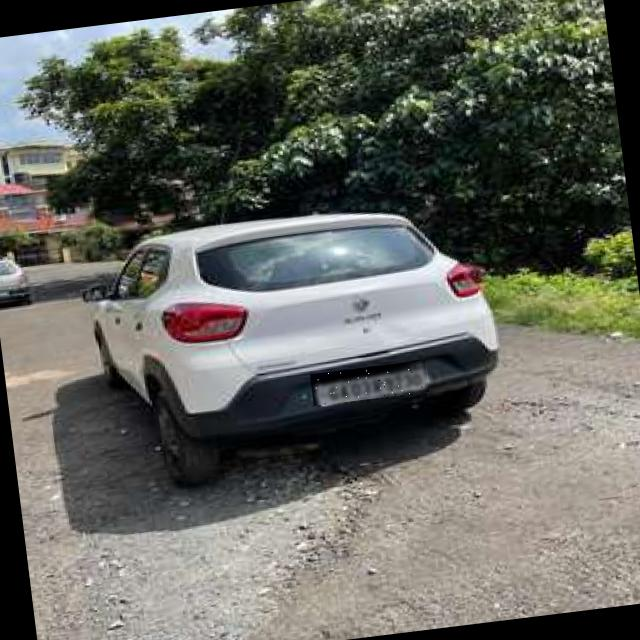Plate: (311, 361, 430, 407)
